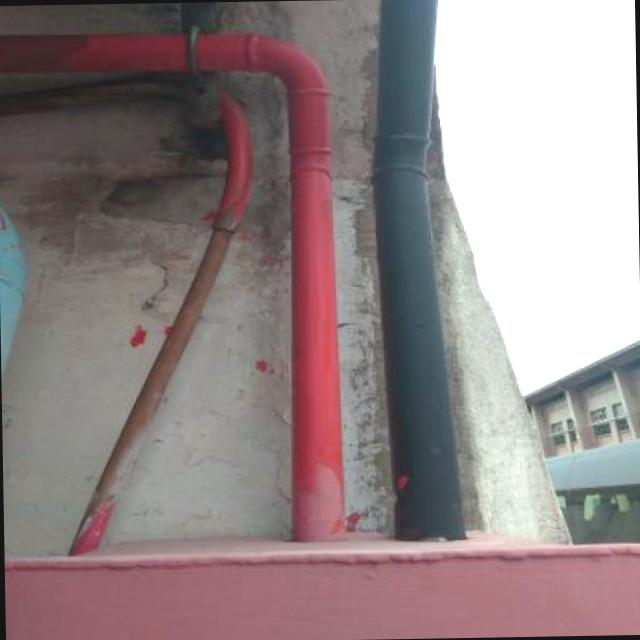gas: (374, 185, 456, 540), (282, 89, 344, 546), (0, 24, 283, 81), (369, 0, 446, 165)
